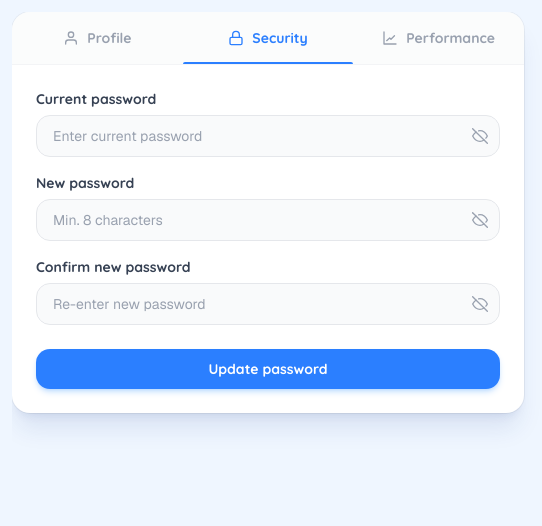
Test: AccountCard – security tab › shows error when new password is shorter than 8 chars
The image size is (542, 526).
Type "currentPass1" into the password field labelled "Current password". click: (268, 136)
box: [36,115,500,157]
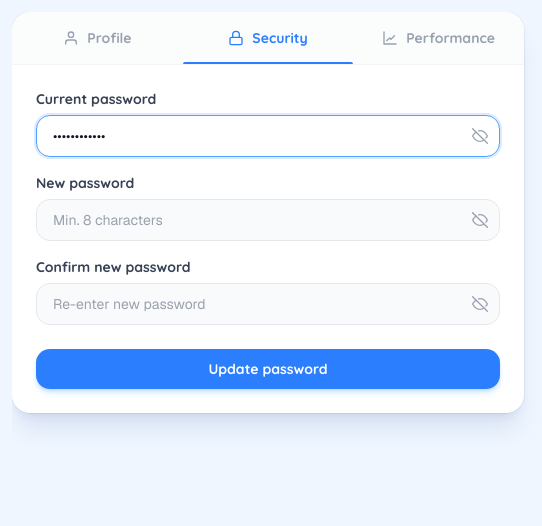
Type "abc" into the password field labelled "New password". click: (268, 220)
box: [36,199,500,241]
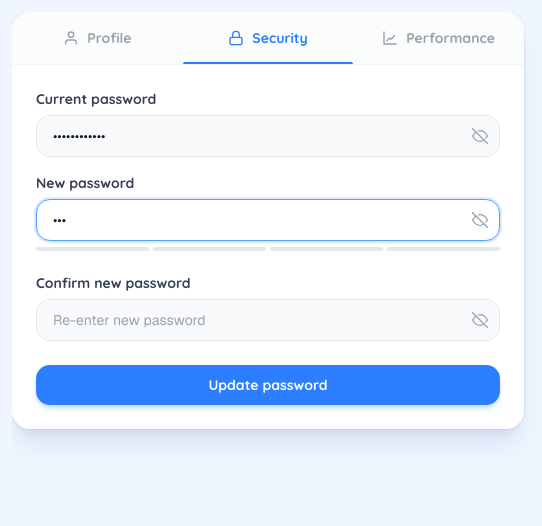
Type "abc" into the password field labelled "Confirm new password". click: (268, 320)
box: [36,299,500,341]
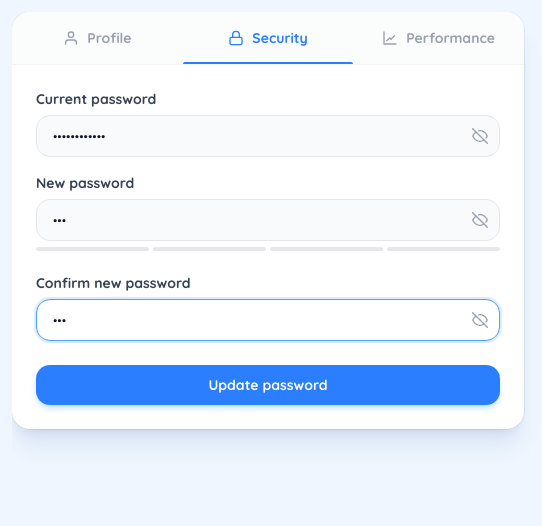
Click the button "Update password". click: (268, 385)
box: [36,365,500,405]
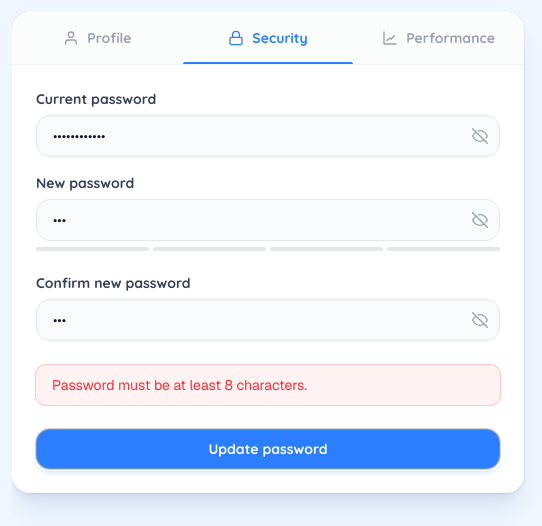
Result: the text "Password must be at least 8 characters." is shown at [36,365,500,405]
